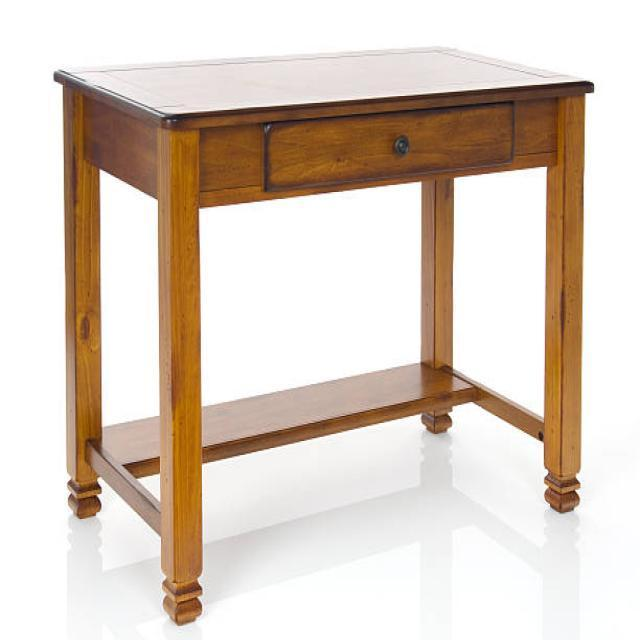table: (53, 45, 594, 624)
